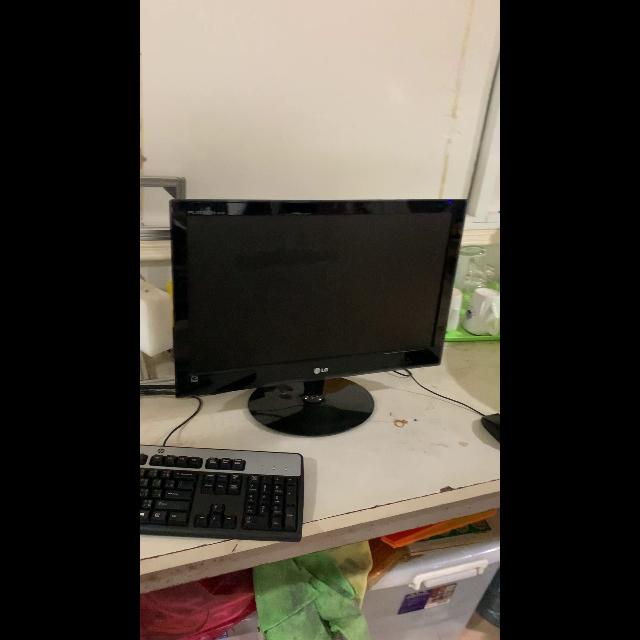Flat-Panel-Monitor: (168, 197, 470, 439)
